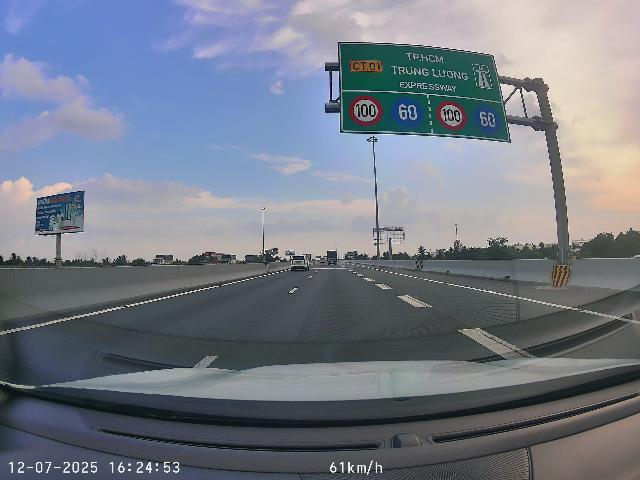127-toc-do-toi-da-100: (348, 95, 383, 127), (436, 100, 467, 130)
306-toc-do-toi-thieu-60: (391, 97, 424, 127), (473, 105, 501, 133)
437-bat-dau-duong-cao-toc: (472, 64, 493, 90)
